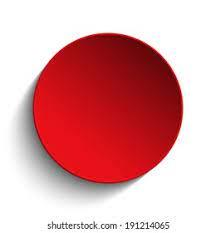red_circle: (24, 28, 192, 190)
